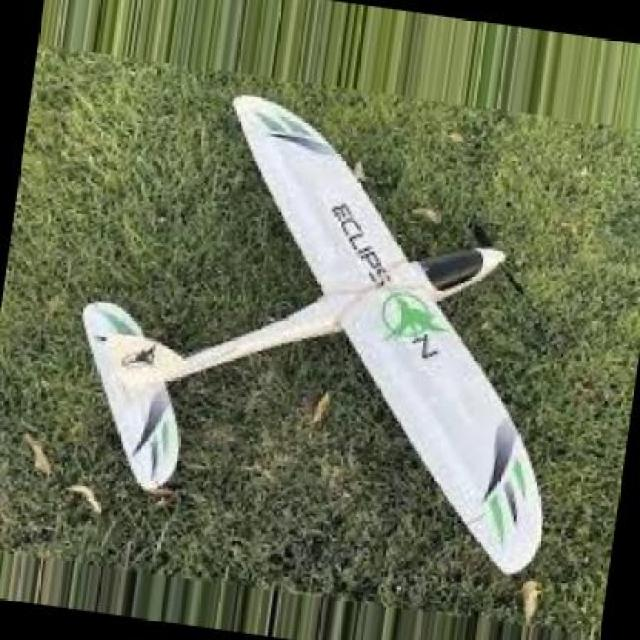iha: (26, 58, 605, 618)
